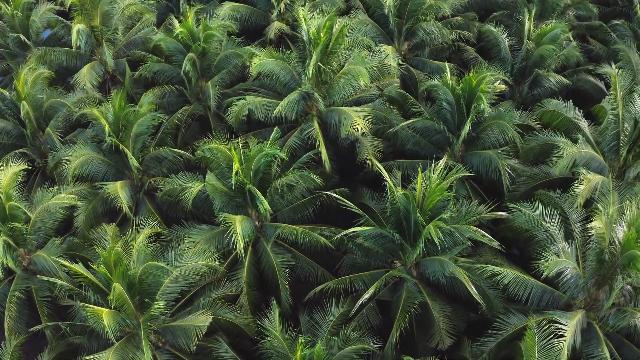trees: (307, 156, 519, 358), (26, 220, 239, 360), (54, 91, 192, 233), (393, 67, 516, 175), (185, 127, 316, 228)
